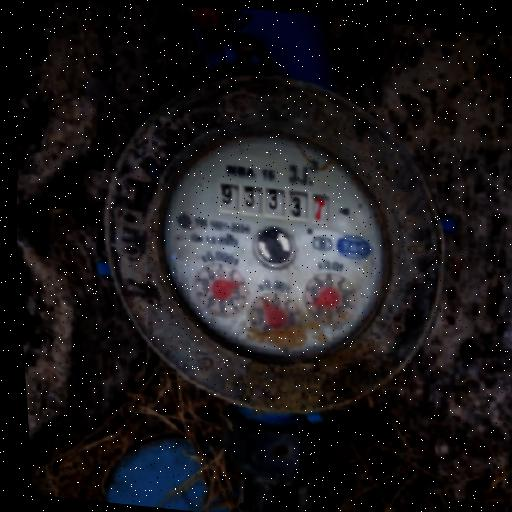3: (242, 188, 264, 214), (289, 193, 310, 218), (265, 188, 284, 214)
7: (312, 195, 331, 221)
9: (218, 185, 240, 211)
border_water_meter_number: (210, 178, 338, 227)
